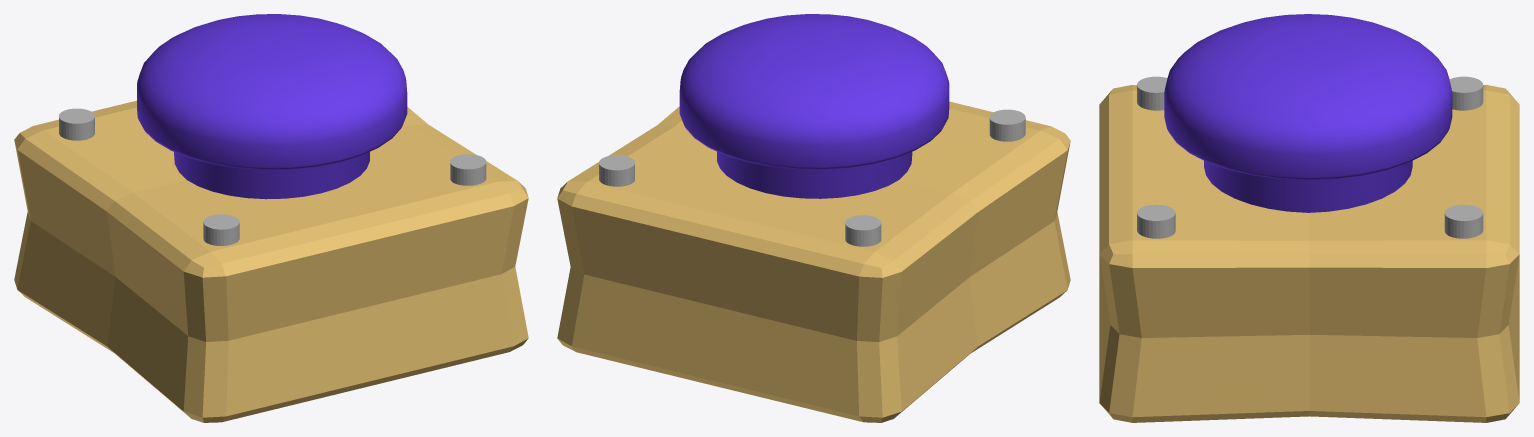
Rendered from blue button.fbx.
The picture shows the model from 3 angles, left to right: view 1: azimuth 30°, elevation 25°; view 2: azimuth 150°, elevation 25°; view 3: azimuth 270°, elevation 25°; orthographic projection. The views are drawn at different scales.
Parts seen in each view (by area): view 1: Red pannic button.001; view 2: Red pannic button.001; view 3: Red pannic button.001.
Part boxes in pixels (x1,y1,x2,y2): Red pannic button.001: [14, 14, 528, 422]; Red pannic button.001: [557, 14, 1070, 422]; Red pannic button.001: [1099, 14, 1519, 422].
Bounding box in the file's own units: 82.99 × 64.71 × 82.99.
